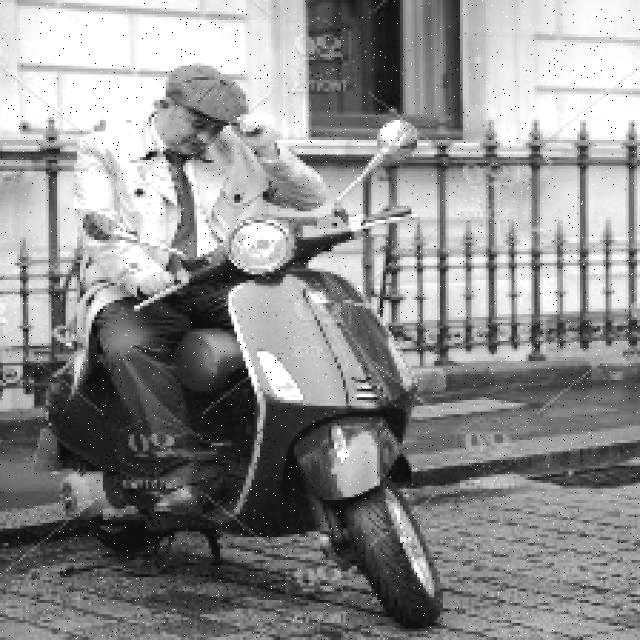Bike: (70, 249, 468, 624)
